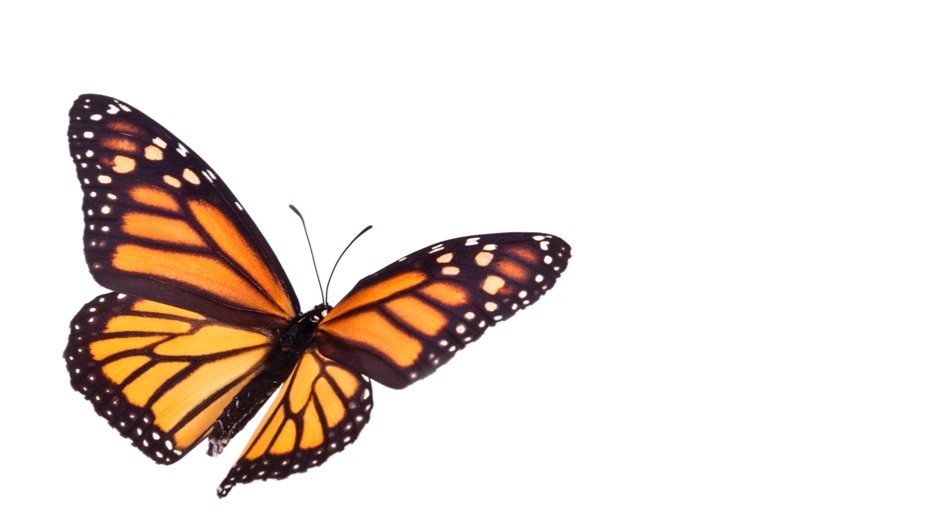insect: (60, 90, 575, 492)
